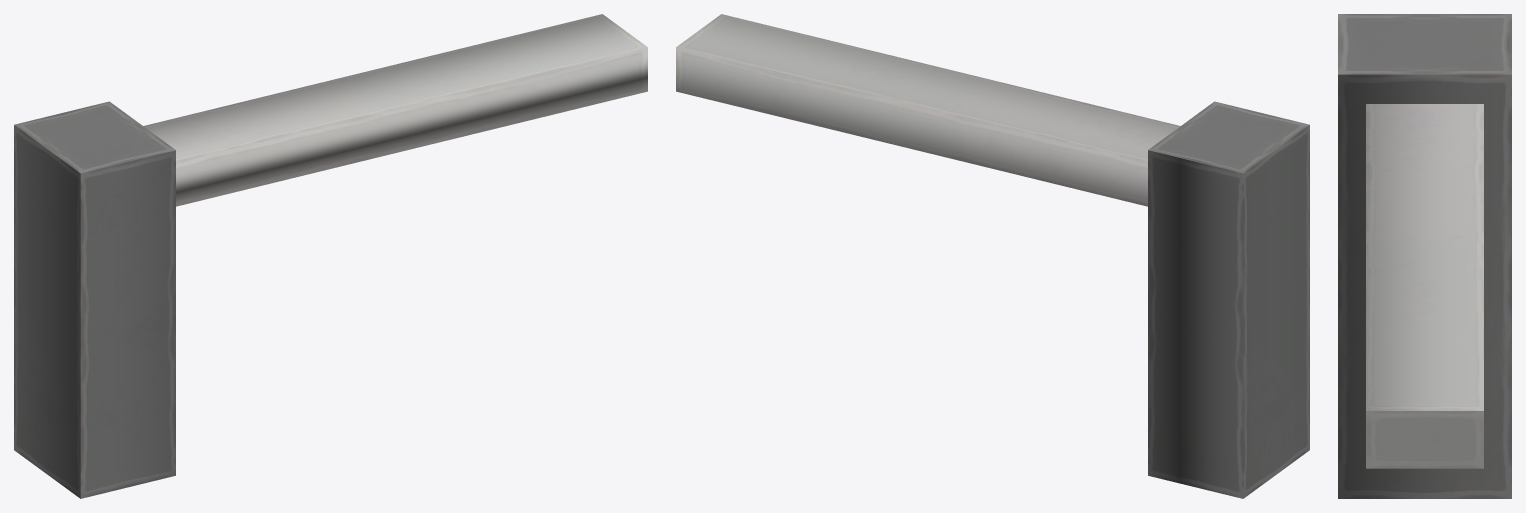
The model's file is SM_Fence_02_A.glb.
3 views of the same model, side by side, from view 1: azimuth 30°, elevation 25°; view 2: azimuth 150°, elevation 25°; view 3: azimuth 270°, elevation 25° (orthographic). The views are drawn at different scales.
Visible parts, largest first — view 1: SM_Fence_02_A; view 2: SM_Fence_02_A; view 3: SM_Fence_02_A.
Part boxes in pixels (left/top/right/bottom): SM_Fence_02_A: left=14, top=14, right=647, bottom=498; SM_Fence_02_A: left=676, top=14, right=1309, bottom=498; SM_Fence_02_A: left=1338, top=14, right=1511, bottom=498.
Size of the model in its own units: 1.09 by 0.5867 by 0.2177.
1 material, 1 textured.
